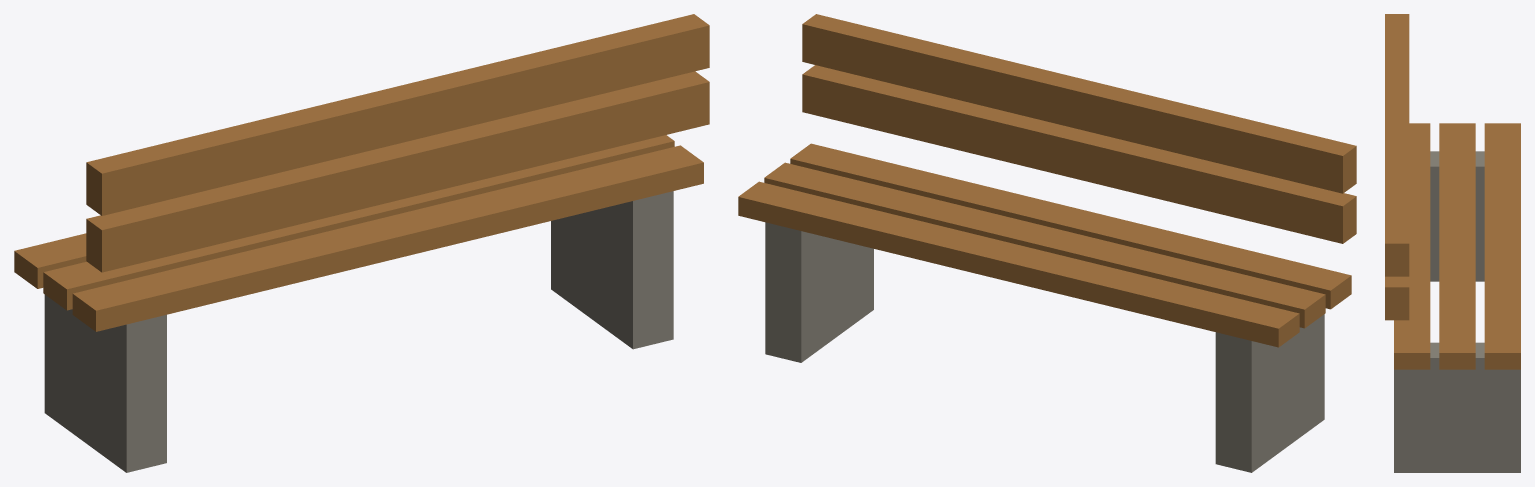
The model's file is env_bench.obj.
3 renders of one model, left to right at view 1: azimuth 30°, elevation 25°; view 2: azimuth 150°, elevation 25°; view 3: azimuth 270°, elevation 25°, orthographic. The views are drawn at different scales.
Parts seen in each view (by area): view 1: Bench; view 2: Bench; view 3: Bench.
Boxes of the visible parts, x1=… form: Bench: x1=14, y1=14, x2=709, y2=472; Bench: x1=738, y1=14, x2=1356, y2=472; Bench: x1=1385, y1=14, x2=1520, y2=472.
Bounding box in the file's own units: 1.8 × 0.88 × 0.45.
